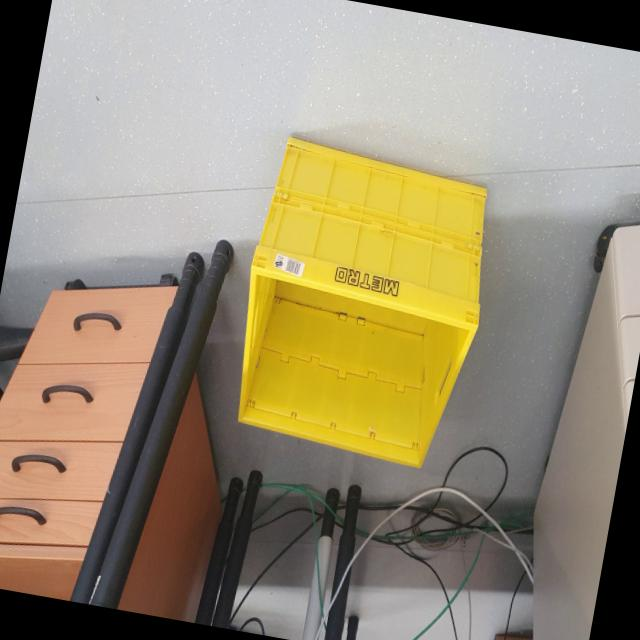box: (210, 122, 512, 496)
